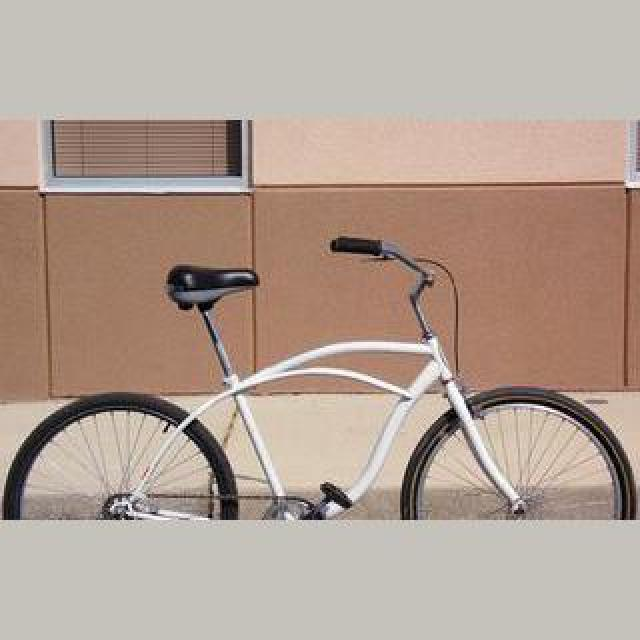Person: (0, 236, 636, 520)
